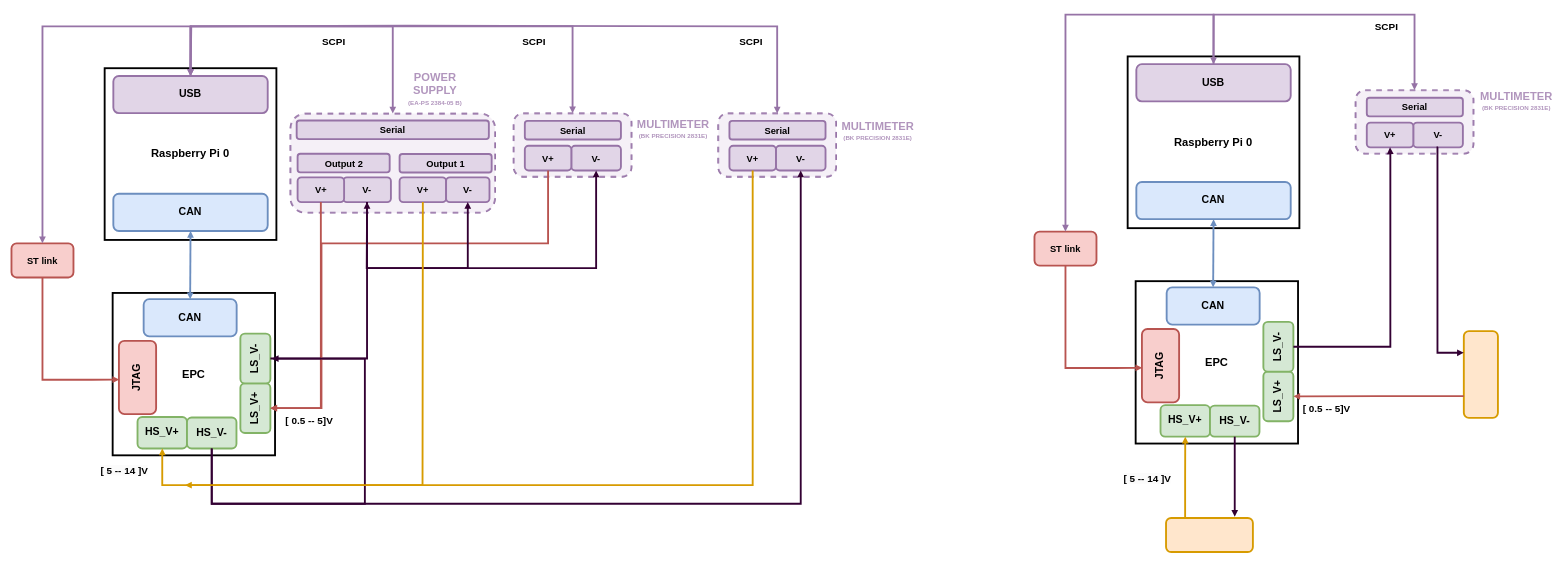
This 1564x564 diagram has some shape labels left out. Each missing label, with the centre of its shape:
"Battery to be cycled" belongs at (1481,374).
"Lead-acid battery" belongs at (1209,535).
